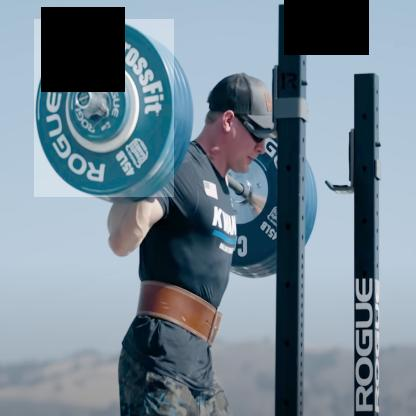barbell: (35, 20, 175, 198)
